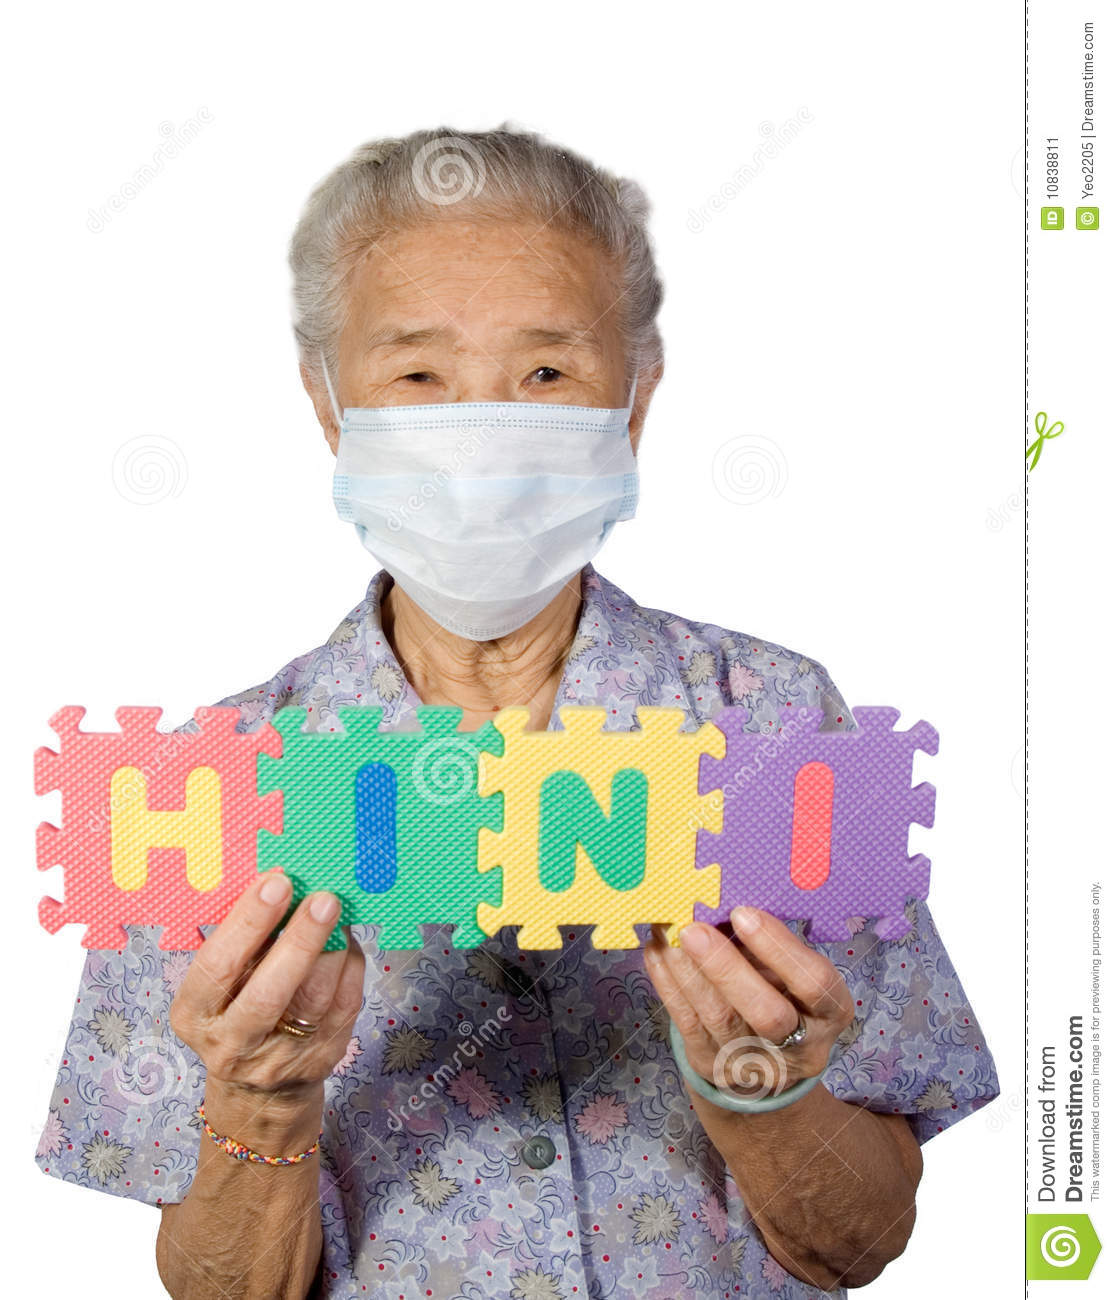mask: (327, 403, 642, 648)
